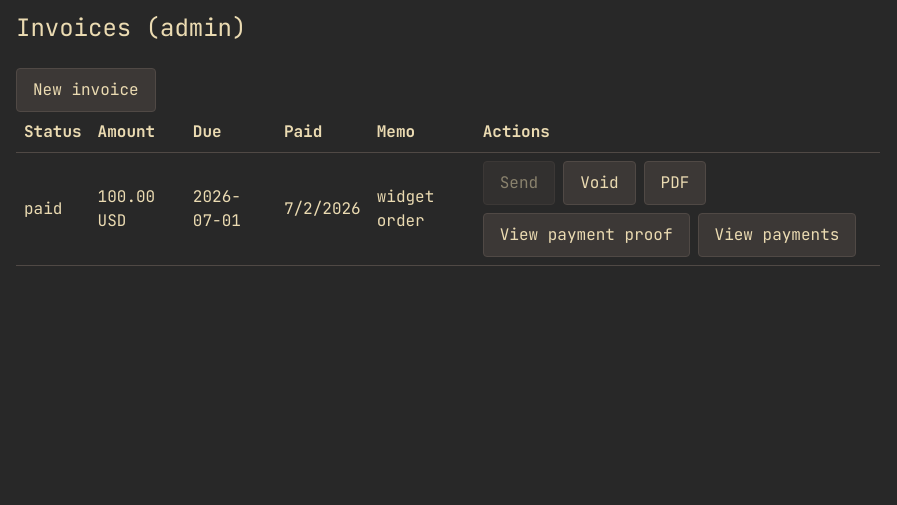
Scenario: AdminInvoices refund UI (integration) › renders a dispute badge when a payment has an open Stripe dispute
expect the text "paid" is shown: met, box x1=24 y1=198 x2=62 y2=219
Click the button "View payments".
click(777, 235)  # box x1=698 y1=213 x2=856 y2=257
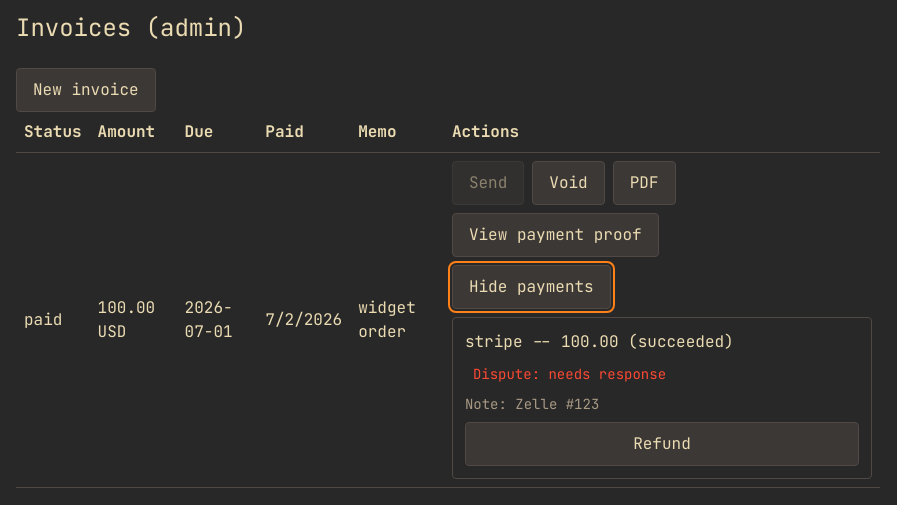
expect the text "Dispute: needs response" is shown: met, box x1=465 y1=362 x2=674 y2=386
